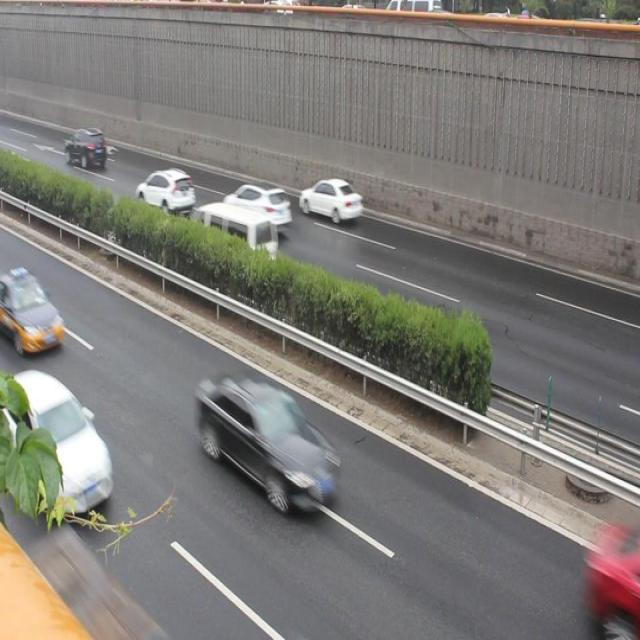car: (192, 371, 338, 506), (12, 364, 113, 511), (1, 266, 68, 355), (223, 176, 292, 231), (297, 173, 361, 224), (134, 166, 194, 217), (63, 123, 108, 170)
truck: (194, 198, 276, 264)
